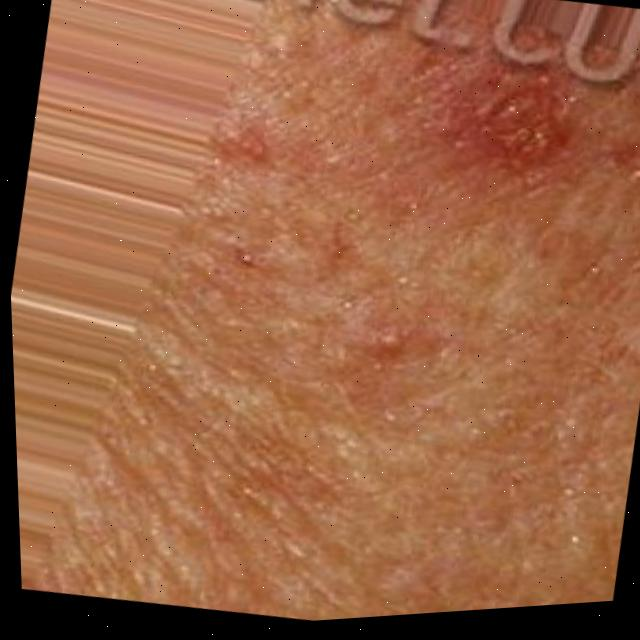Rosacea: (422, 62, 605, 192)
